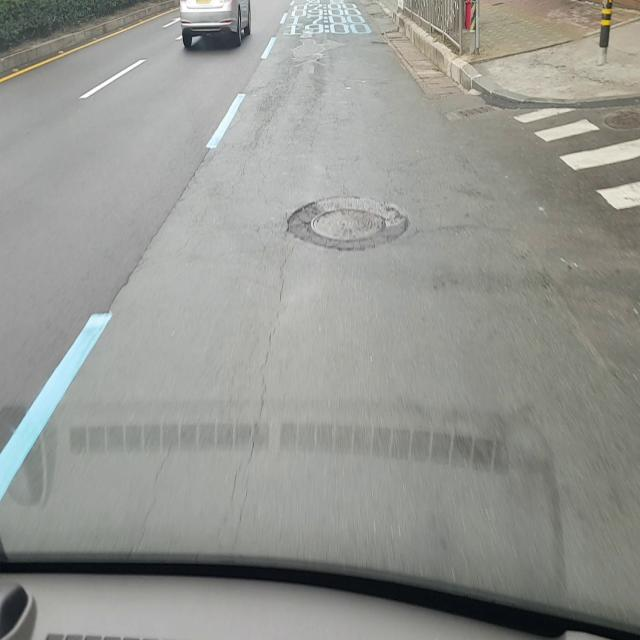Pothole: (283, 194, 412, 254)
